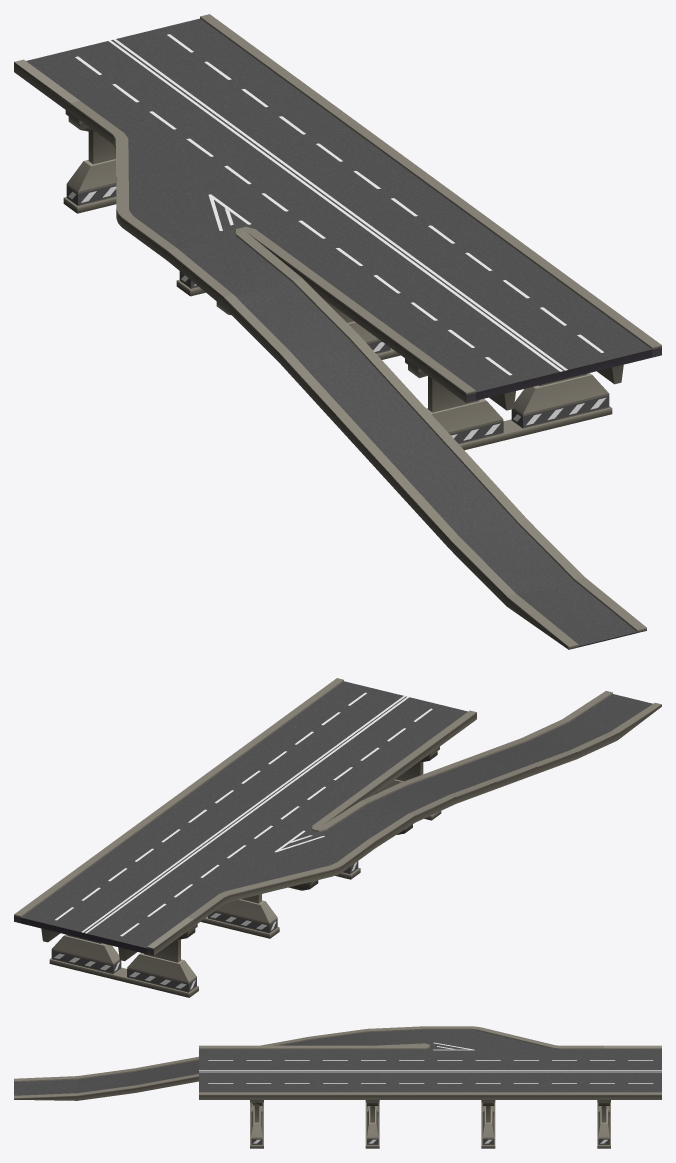
The picture shows the model from 3 angles, top to bottom: view 1: azimuth 30°, elevation 25°; view 2: azimuth 150°, elevation 25°; view 3: azimuth 270°, elevation 25°; orthographic projection. The views are drawn at different scales.
Visible parts, largest first — view 1: Highway_1E; view 2: Highway_1E; view 3: Highway_1E.
Part boxes in pixels (left/top/right/bottom): Highway_1E: left=14, top=14, right=661, bottom=649; Highway_1E: left=14, top=678, right=661, bottom=997; Highway_1E: left=14, top=1026, right=661, bottom=1148.
Size of the model in its own units: 34881 by 13080 by 139523.
